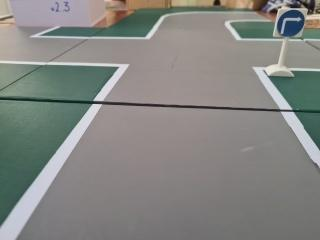right: (276, 2, 309, 43)
